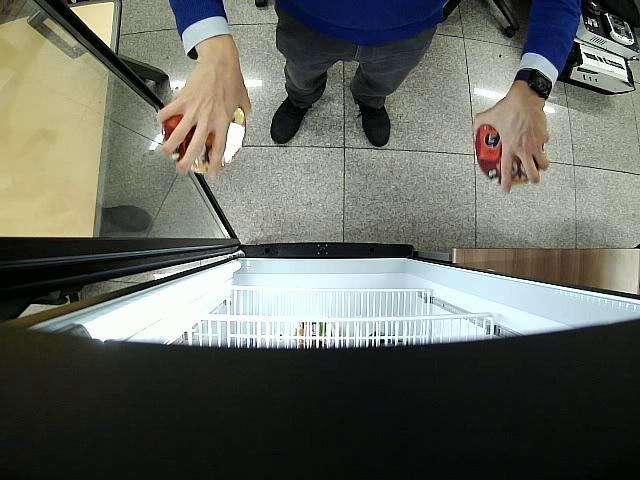05_nuguri_L: (164, 106, 246, 174), (476, 124, 540, 184)
